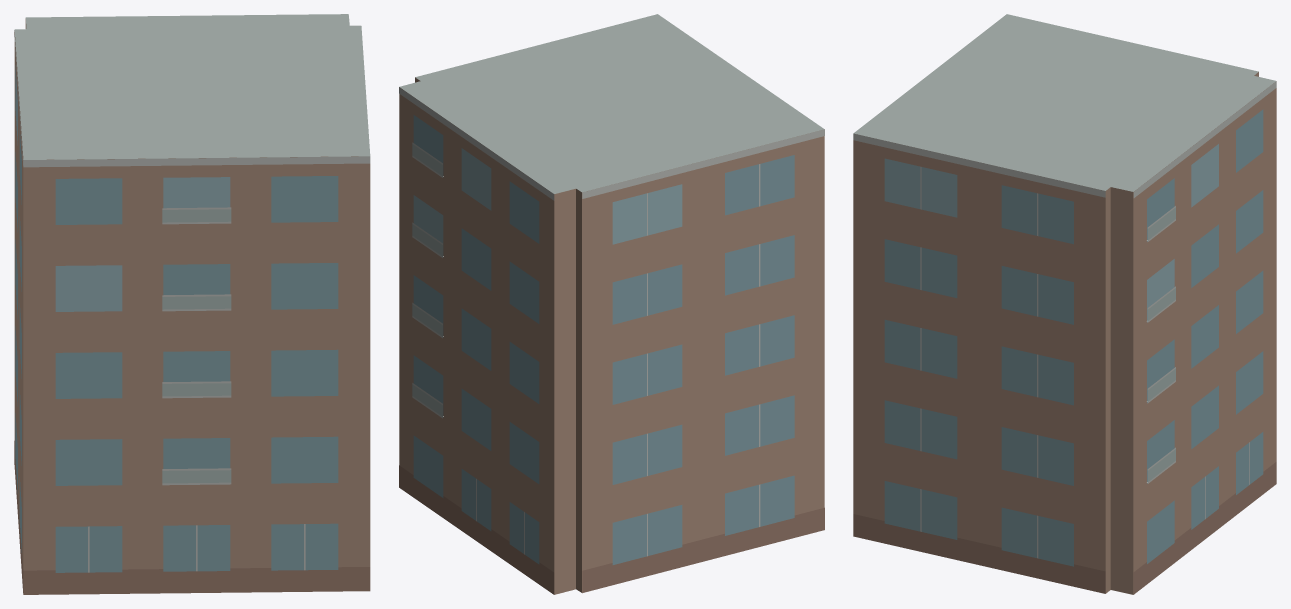
File: survey-upis-32920342.glb
3 views of the same model, side by side, from view 1: azimuth 30°, elevation 25°; view 2: azimuth 150°, elevation 25°; view 3: azimuth 270°, elevation 25° (orthographic). The views are drawn at different scales.
Parts seen in each view (by area): view 1: survey-upis-32920342.tmp; view 2: survey-upis-32920342.tmp; view 3: survey-upis-32920342.tmp.
Part boxes in pixels (x1,y1,x2,y2): survey-upis-32920342.tmp: (14,14,370,594); survey-upis-32920342.tmp: (399,14,824,594); survey-upis-32920342.tmp: (853,14,1276,594).
Bounding box in the file's own units: 13.79 × 14.55 × 13.86.
